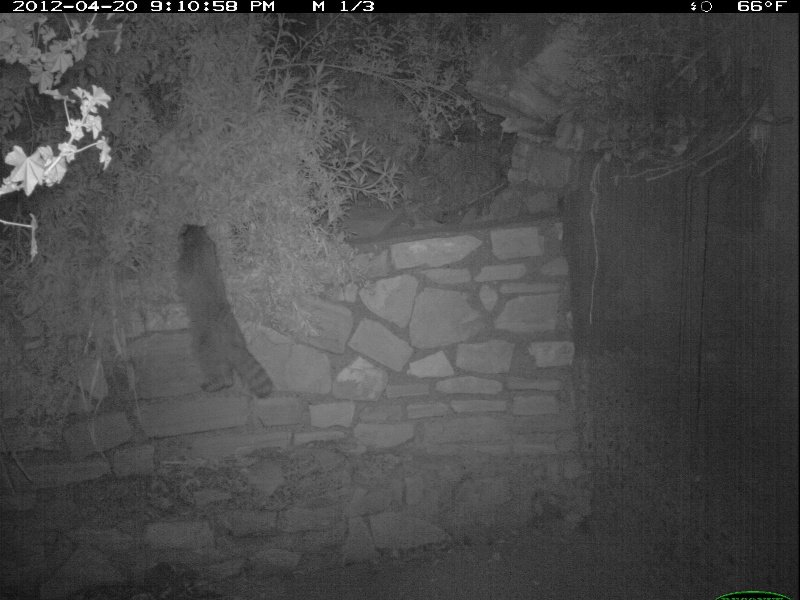raccoon: (171, 218, 274, 401)
